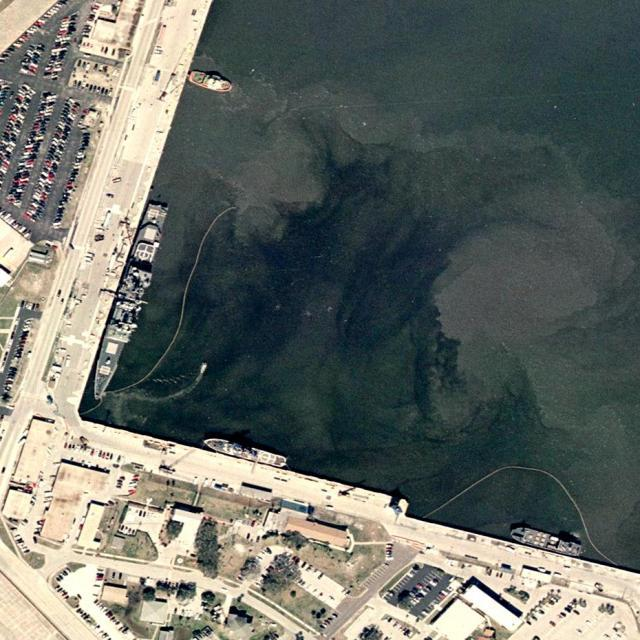Cruiser: (85, 203, 170, 401)
Hovercraft: (188, 69, 233, 95)
Other Warship: (202, 434, 288, 470), (507, 523, 584, 559)
